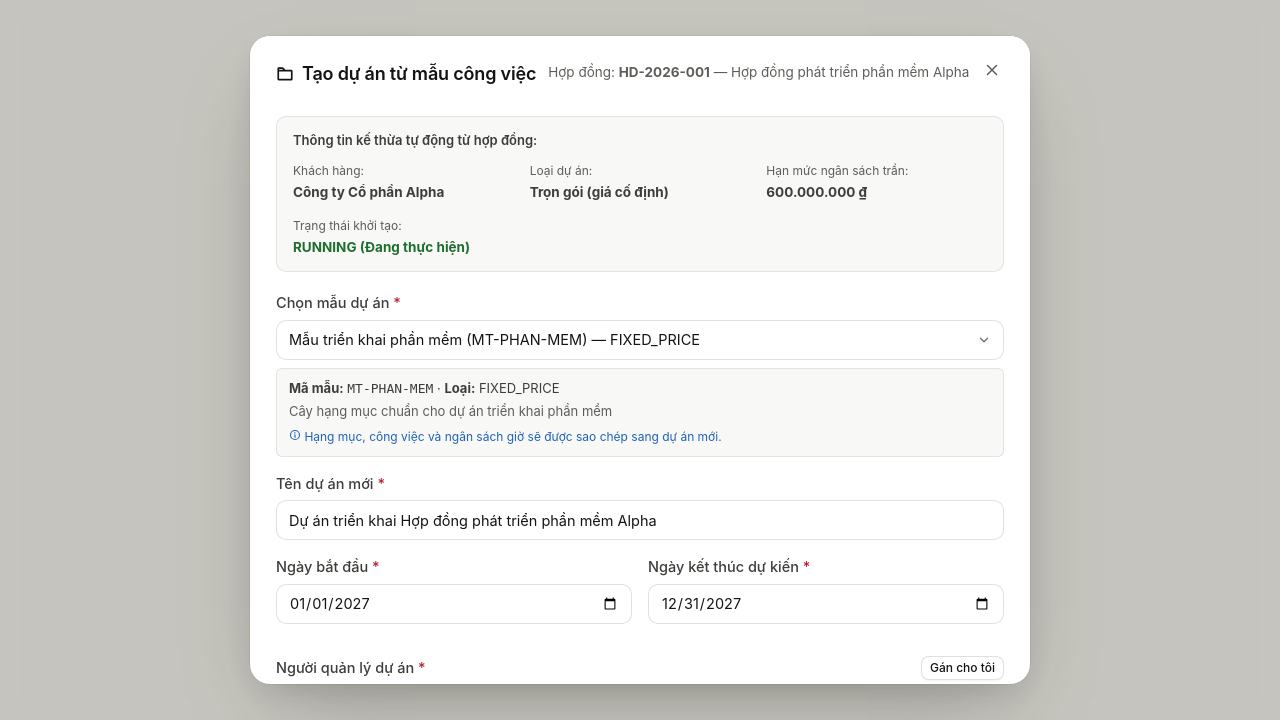
Test case: CreateProjectFromTemplateModal Component (NCL-05-CN-007) › bắt lỗi client-side khi bỏ trống tên dự án hoặc nhập ngày kết thúc sớm hơn ngày bắt đầu
Expected: the dropdown with test id "template-select" is shown, left=276, top=320, right=1004, bottom=360
Xóa tên dự án
Clear the field with test id "project-name-input" at (640, 520), box left=276, top=500, right=1004, bottom=540
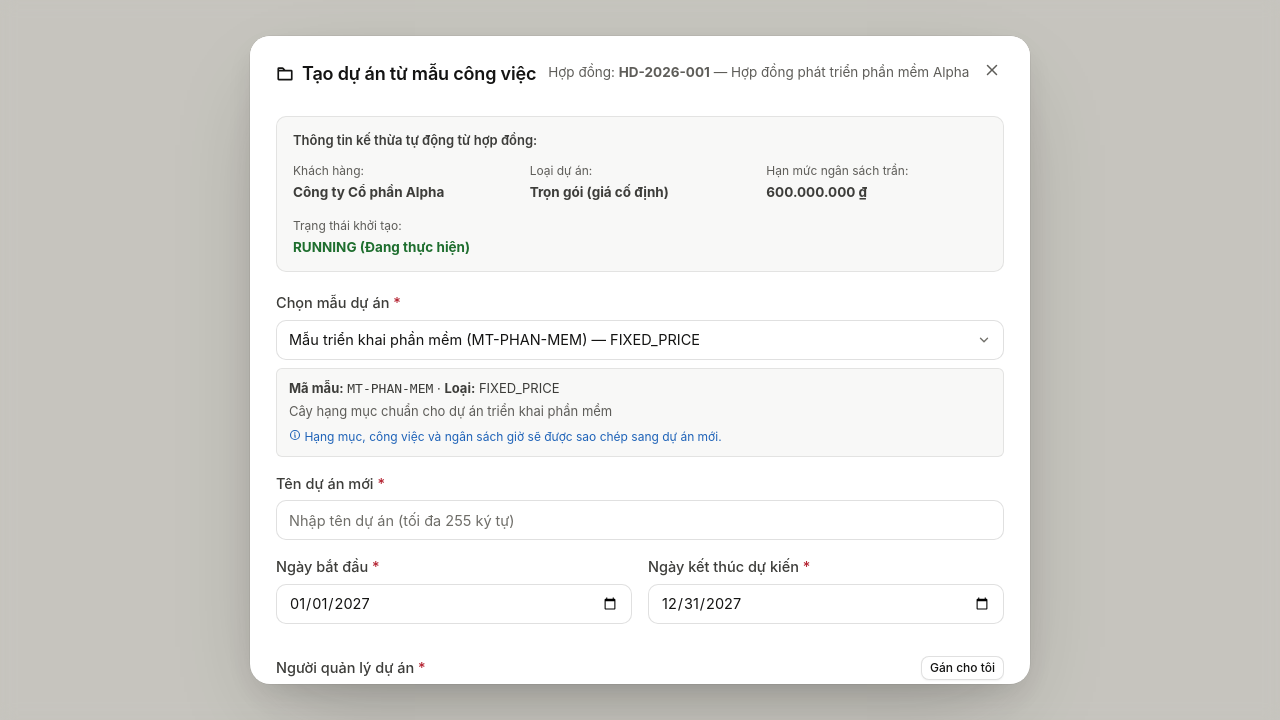
Nhập ngày kết thúc sớm hơn ngày bắt đầu
Type "2027-06-01" into the date field with test id "start-date-input" at (454, 604), box left=276, top=584, right=632, bottom=624
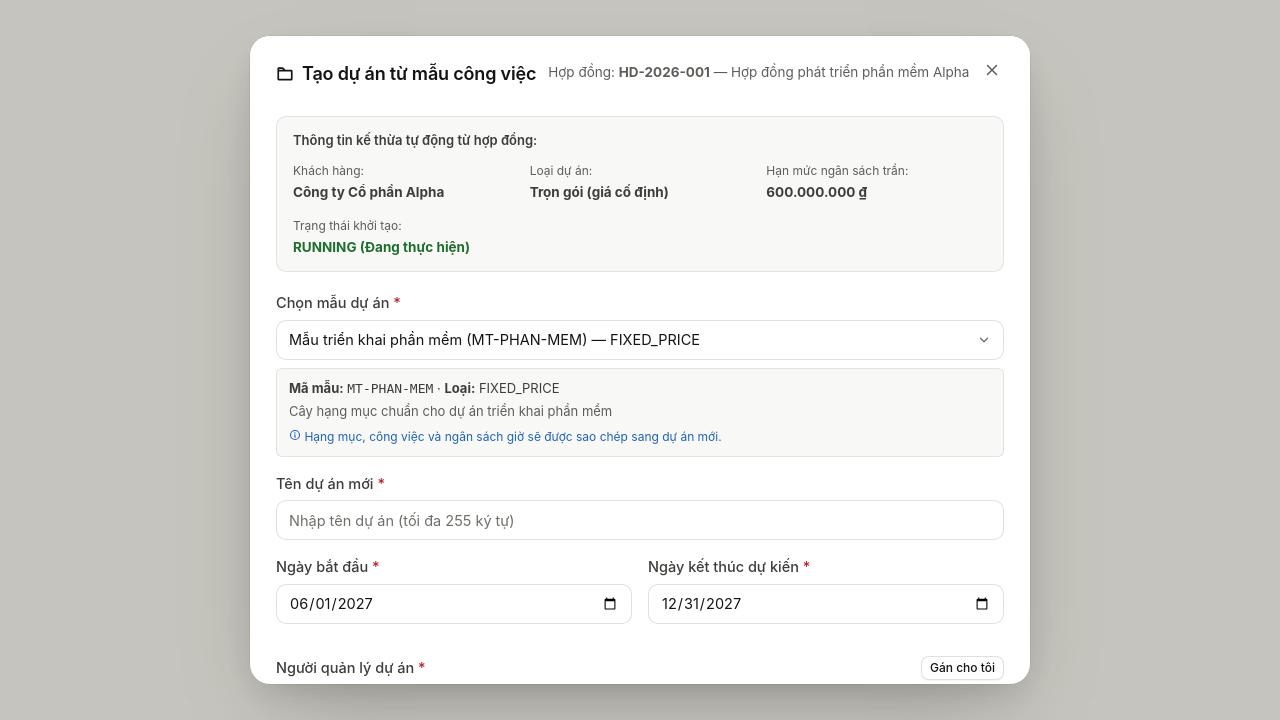
Type "2027-05-01" into the date field with test id "end-date-input" at (826, 604), box left=648, top=584, right=1004, bottom=624
(page scrolled)
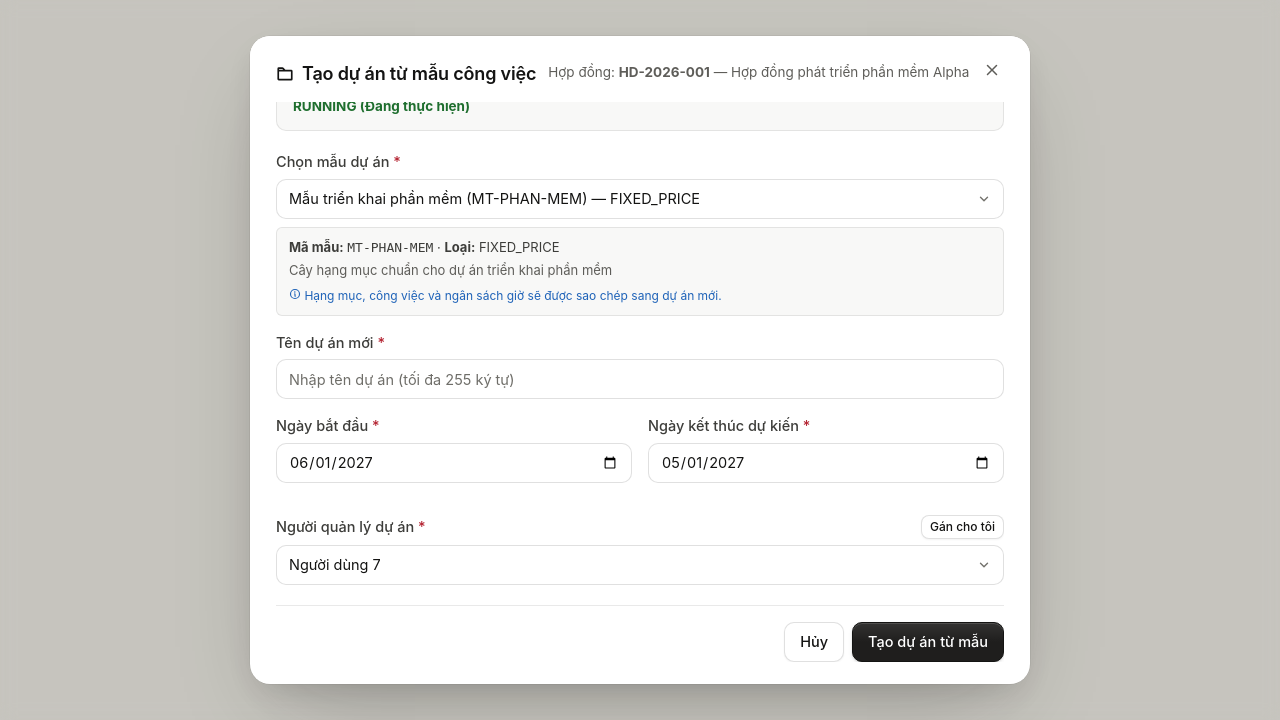
Click the button with test id "submit-create-from-template-btn" at (928, 642), box left=852, top=622, right=1004, bottom=662
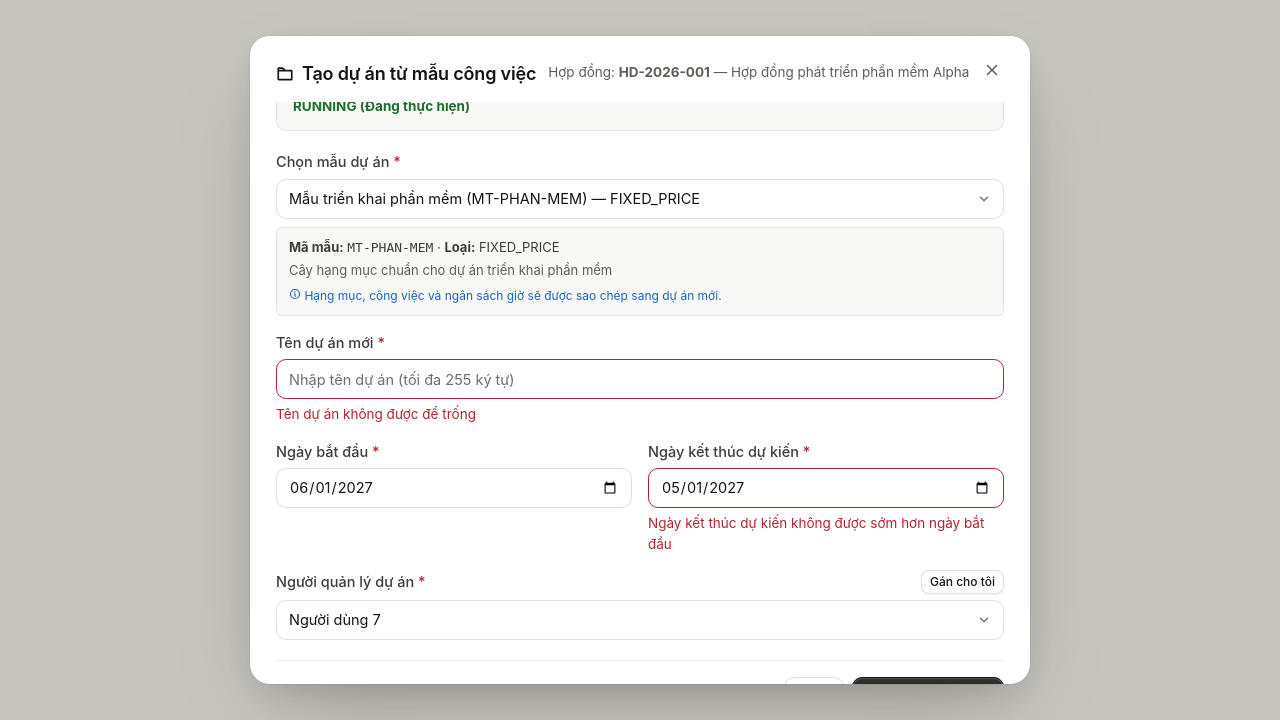
Expected: the message with test id "error-name" reads "Tên dự án không được để trống", left=276, top=406, right=476, bottom=422
Expected: the message with test id "error-expectedEndDate" reads "Ngày kết thúc dự kiến không được sớm hơn ngày bắt đầu", left=648, top=515, right=984, bottom=552
